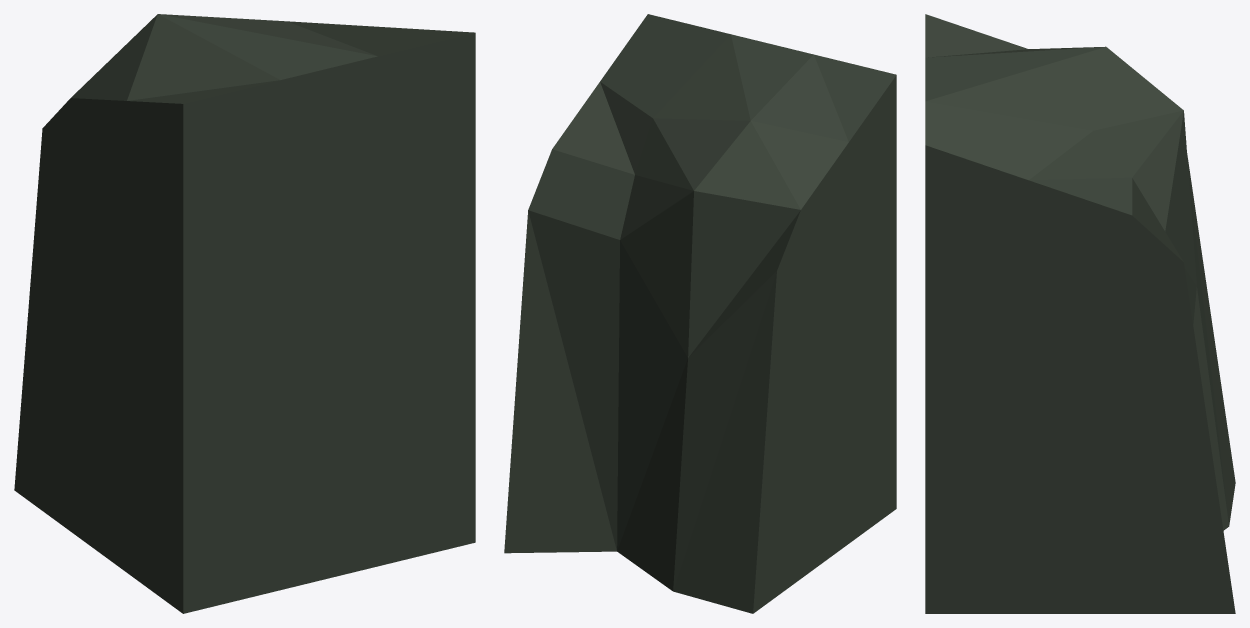
The model's file is tileStoneCoastStraight1.fbx.
3 views of the same model, side by side, from view 1: azimuth 30°, elevation 25°; view 2: azimuth 150°, elevation 25°; view 3: azimuth 270°, elevation 25° (orthographic). The views are drawn at different scales.
Parts seen in each view (by area): view 1: mesh; view 2: mesh; view 3: mesh.
Boxes of the visible parts, x1,y1,x2,y2 form: mesh: (14,14,475,613); mesh: (504,14,896,613); mesh: (925,14,1235,613).
Size of the model in its own units: 300 by 500 by 300.
Materials: 1 (1 with a texture image).
